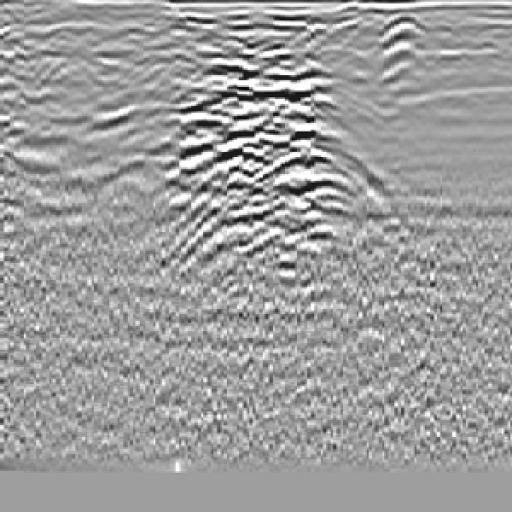metalic: (175, 61, 390, 280)
